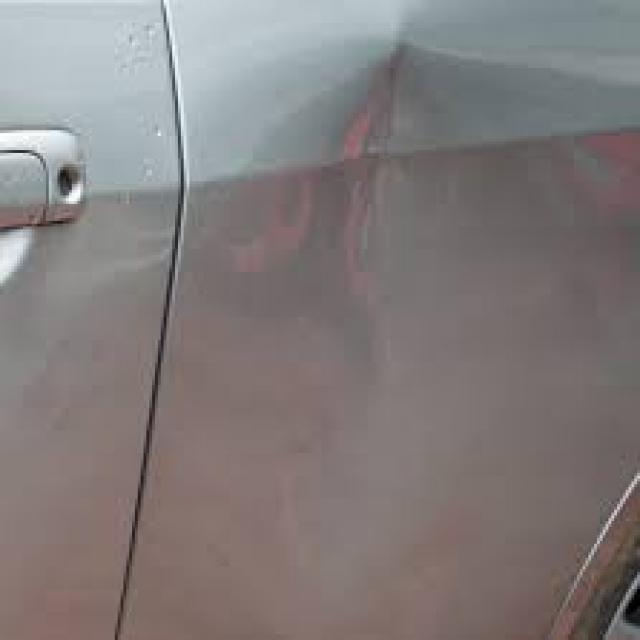minor: (252, 13, 532, 291)
